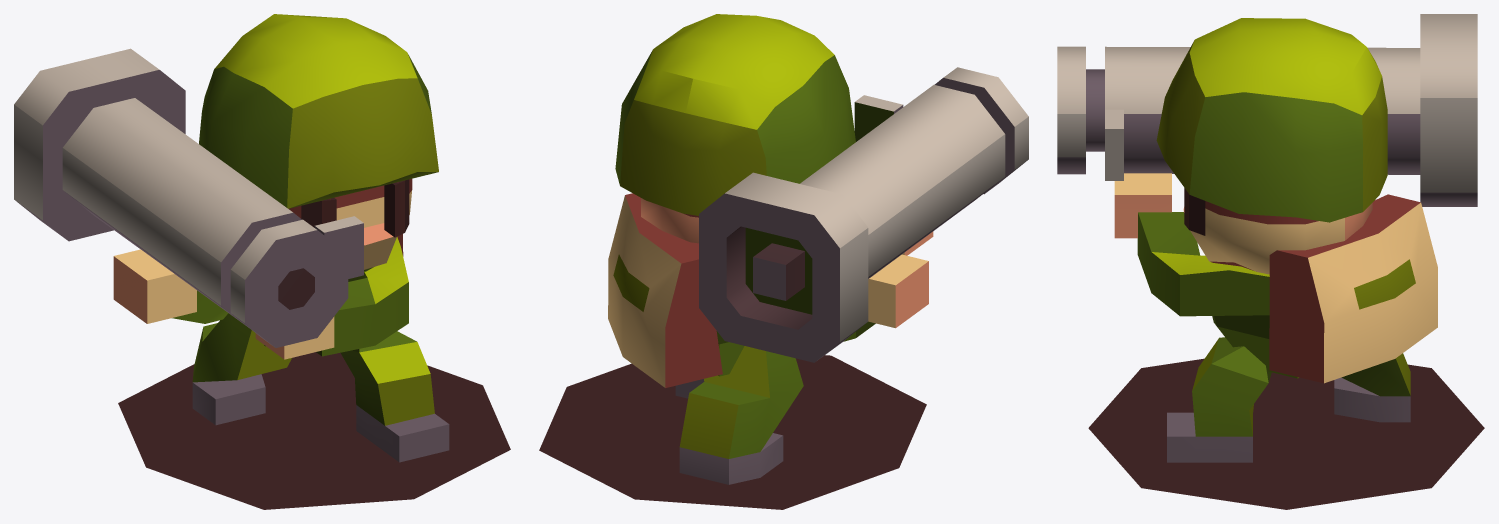
Rendered from MechMesh.AcidRain.glb.
3 views of the same model, side by side, from view 1: azimuth 30°, elevation 25°; view 2: azimuth 150°, elevation 25°; view 3: azimuth 270°, elevation 25° (orthographic).
Visible parts, largest first — view 1: MechMesh.AcidRain; view 2: MechMesh.AcidRain; view 3: MechMesh.AcidRain.
Part boxes in pixels (box(x1,y1,x2,y2)): MechMesh.AcidRain: box(14, 14, 510, 509); MechMesh.AcidRain: box(539, 14, 1028, 509); MechMesh.AcidRain: box(1057, 14, 1484, 509).
Bounding box in the file's own units: 2.24 × 2.3 × 2.24.
Materials: 1 (1 with a texture image).
